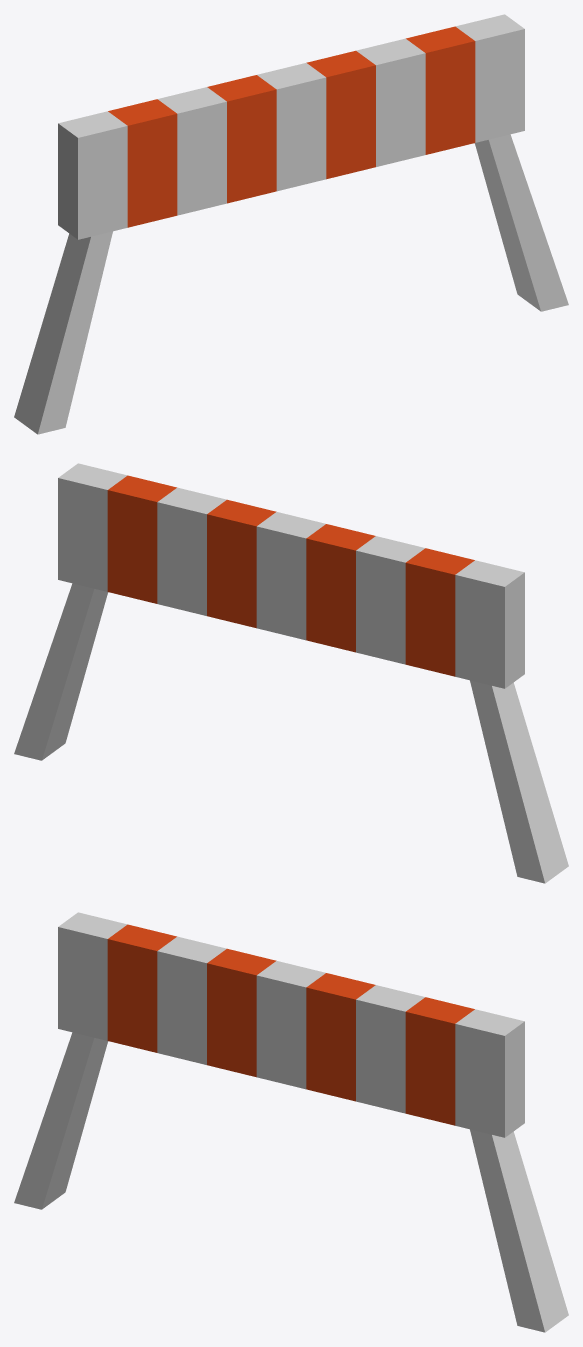
The model's file is obstacleWhite.fbx.
3 renders of one model, top to bottom at view 1: azimuth 30°, elevation 25°; view 2: azimuth 150°, elevation 25°; view 3: azimuth 330°, elevation 25°, orthographic.
Visible parts, largest first — view 1: Cube; view 2: Cube; view 3: Cube.
Part boxes in pixels (x1,y1,x2,y2): Cube: (14, 14, 568, 434); Cube: (14, 463, 568, 883); Cube: (14, 912, 568, 1332).
Bounding box in the file's own units: 951 × 488 × 73.72.
